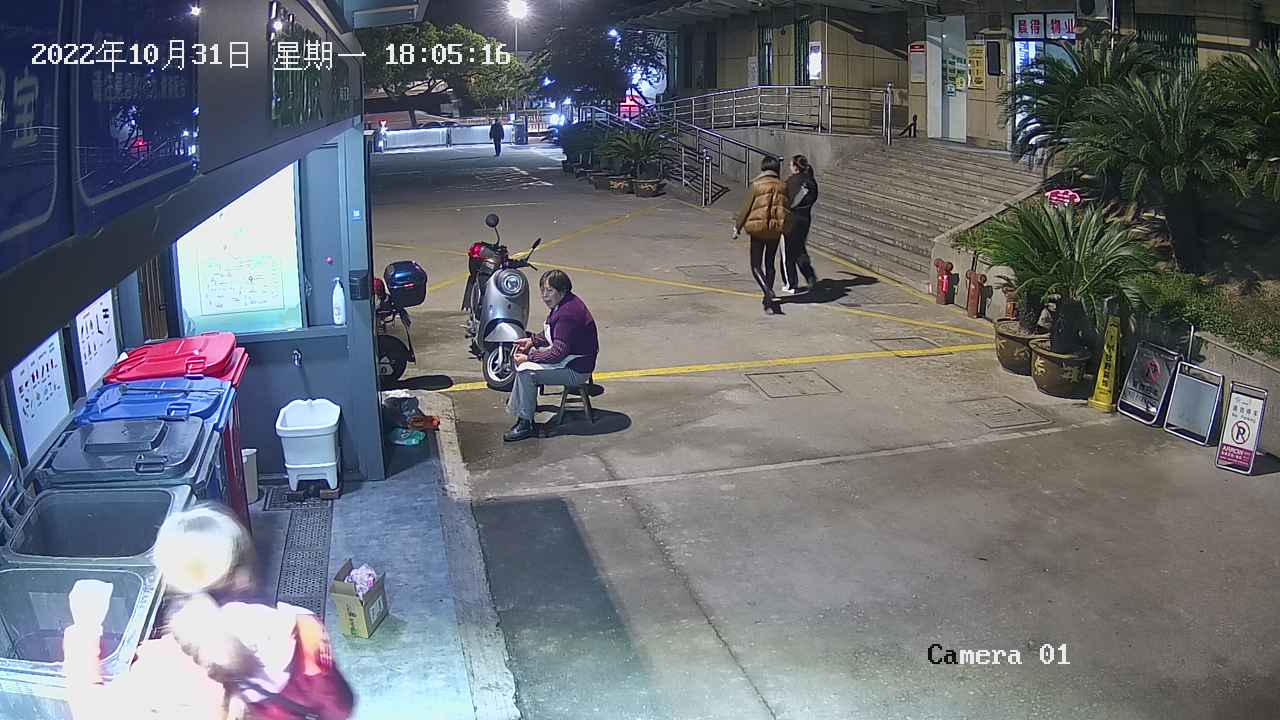person: (58, 499, 356, 720), (502, 268, 601, 442)
zhizhipin: (328, 557, 391, 639)
